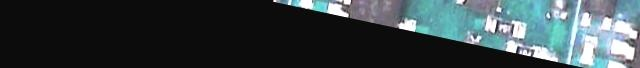chip-capacitor: (578, 34, 598, 65)
chip-resistor: (485, 14, 526, 39), (504, 39, 545, 59)
